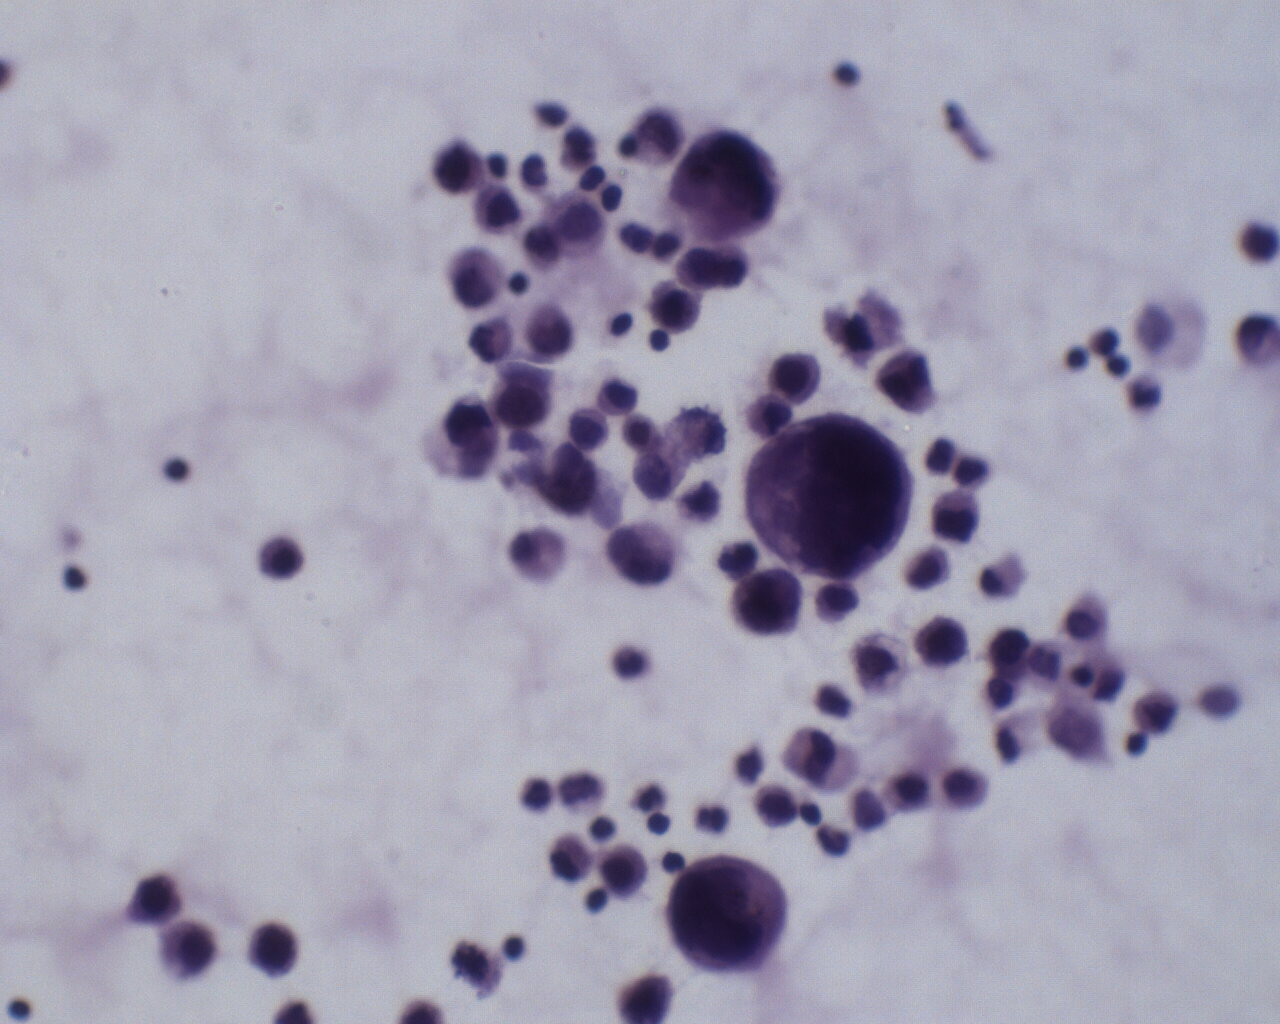ab: (745, 410, 911, 576), (667, 855, 795, 980), (671, 126, 791, 241), (731, 564, 802, 642), (874, 344, 941, 419), (160, 918, 222, 987), (491, 372, 555, 434), (767, 348, 828, 411), (427, 138, 491, 197), (245, 920, 300, 982), (913, 609, 967, 674), (926, 485, 982, 544), (599, 842, 652, 904), (127, 872, 186, 923)
